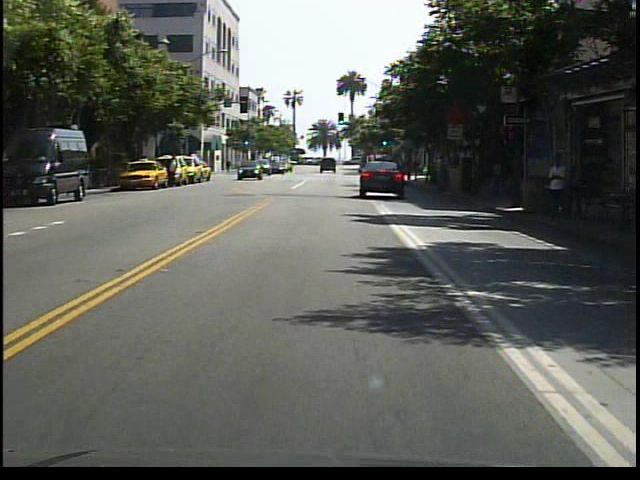person: (541, 149, 576, 226), (166, 154, 182, 190)
